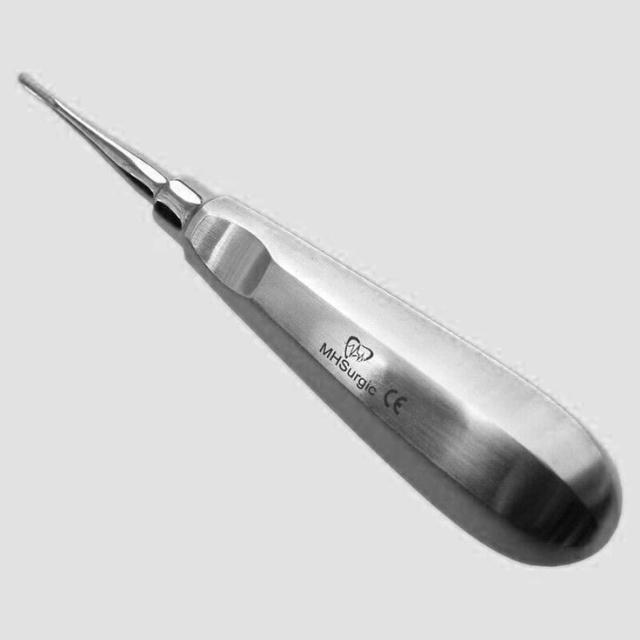botador: (16, 72, 626, 571)
